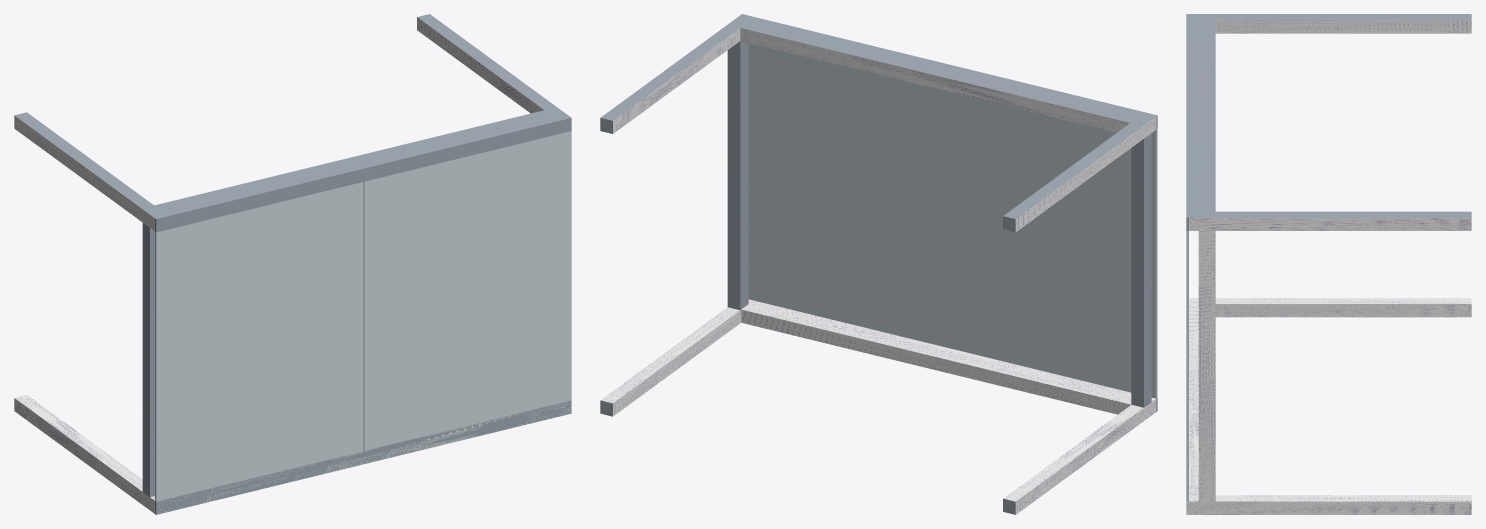
Rendered from dinning_room_table.obj.
3 views of the same model, side by side, from view 1: azimuth 30°, elevation 25°; view 2: azimuth 150°, elevation 25°; view 3: azimuth 270°, elevation 25° (orthographic).
Visible parts, largest first — view 1: dinning_room_table; view 2: dinning_room_table; view 3: dinning_room_table.
Boxes of the visible parts, x1,y1,x2,y2 form: dinning_room_table: (14, 14, 571, 514); dinning_room_table: (600, 14, 1157, 514); dinning_room_table: (1186, 14, 1471, 514).
Size of the model in its own units: 1.25 by 0.8509 by 0.7398.
